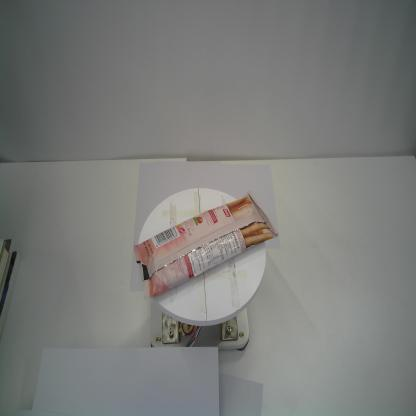Dessert: (133, 190, 278, 300)
